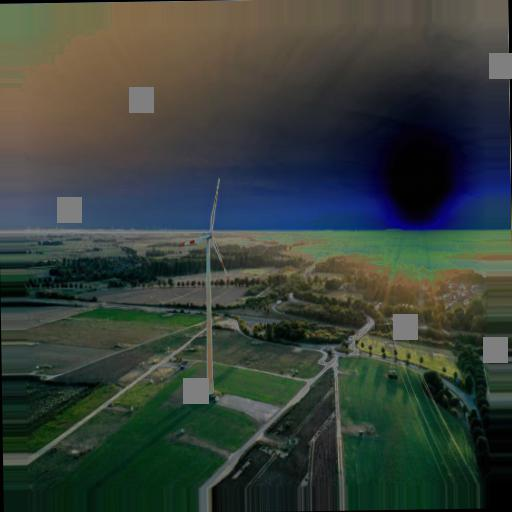wind turbine: (174, 177, 230, 397)
